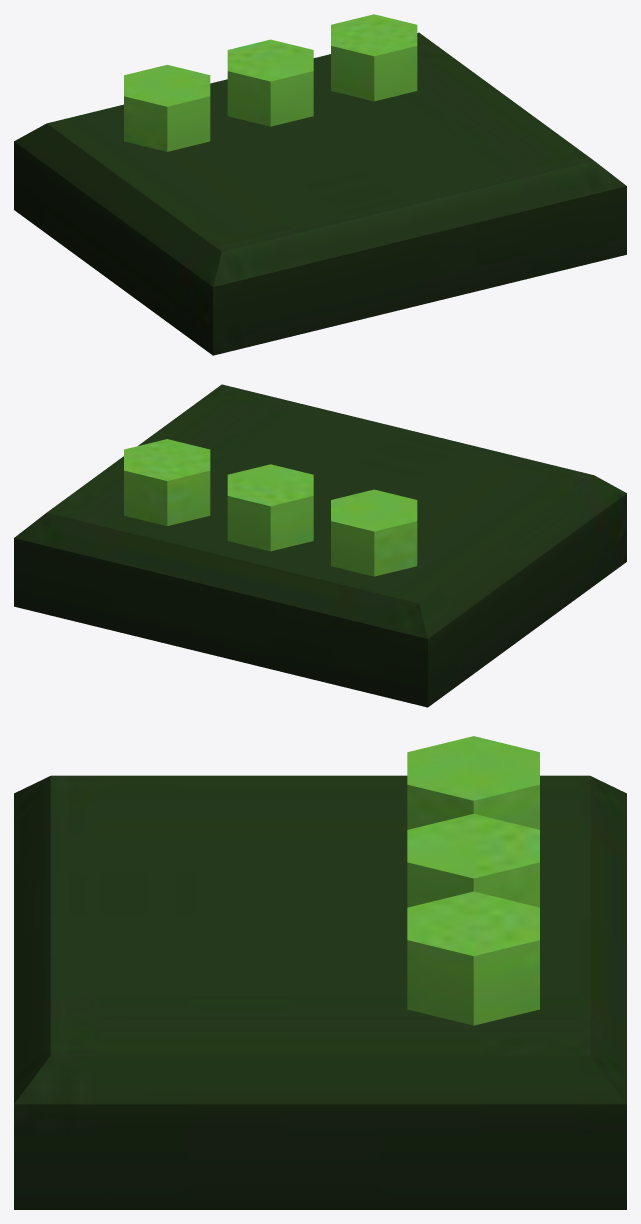
Rendered from efficiency-module-3.glb.
3 renders of one model, top to bottom at view 1: azimuth 30°, elevation 25°; view 2: azimuth 150°, elevation 25°; view 3: azimuth 270°, elevation 25°, orthographic. The views are drawn at different scales.
Visible parts, largest first — view 1: efficiency-module-3; view 2: efficiency-module-3; view 3: efficiency-module-3.
Part boxes in pixels (x1,y1,x2,y2): efficiency-module-3: (14, 14, 626, 355); efficiency-module-3: (14, 384, 626, 707); efficiency-module-3: (14, 736, 626, 1209).
Size of the model in its own units: 0.24 by 0.075 by 0.2.
1 material, 1 textured.
